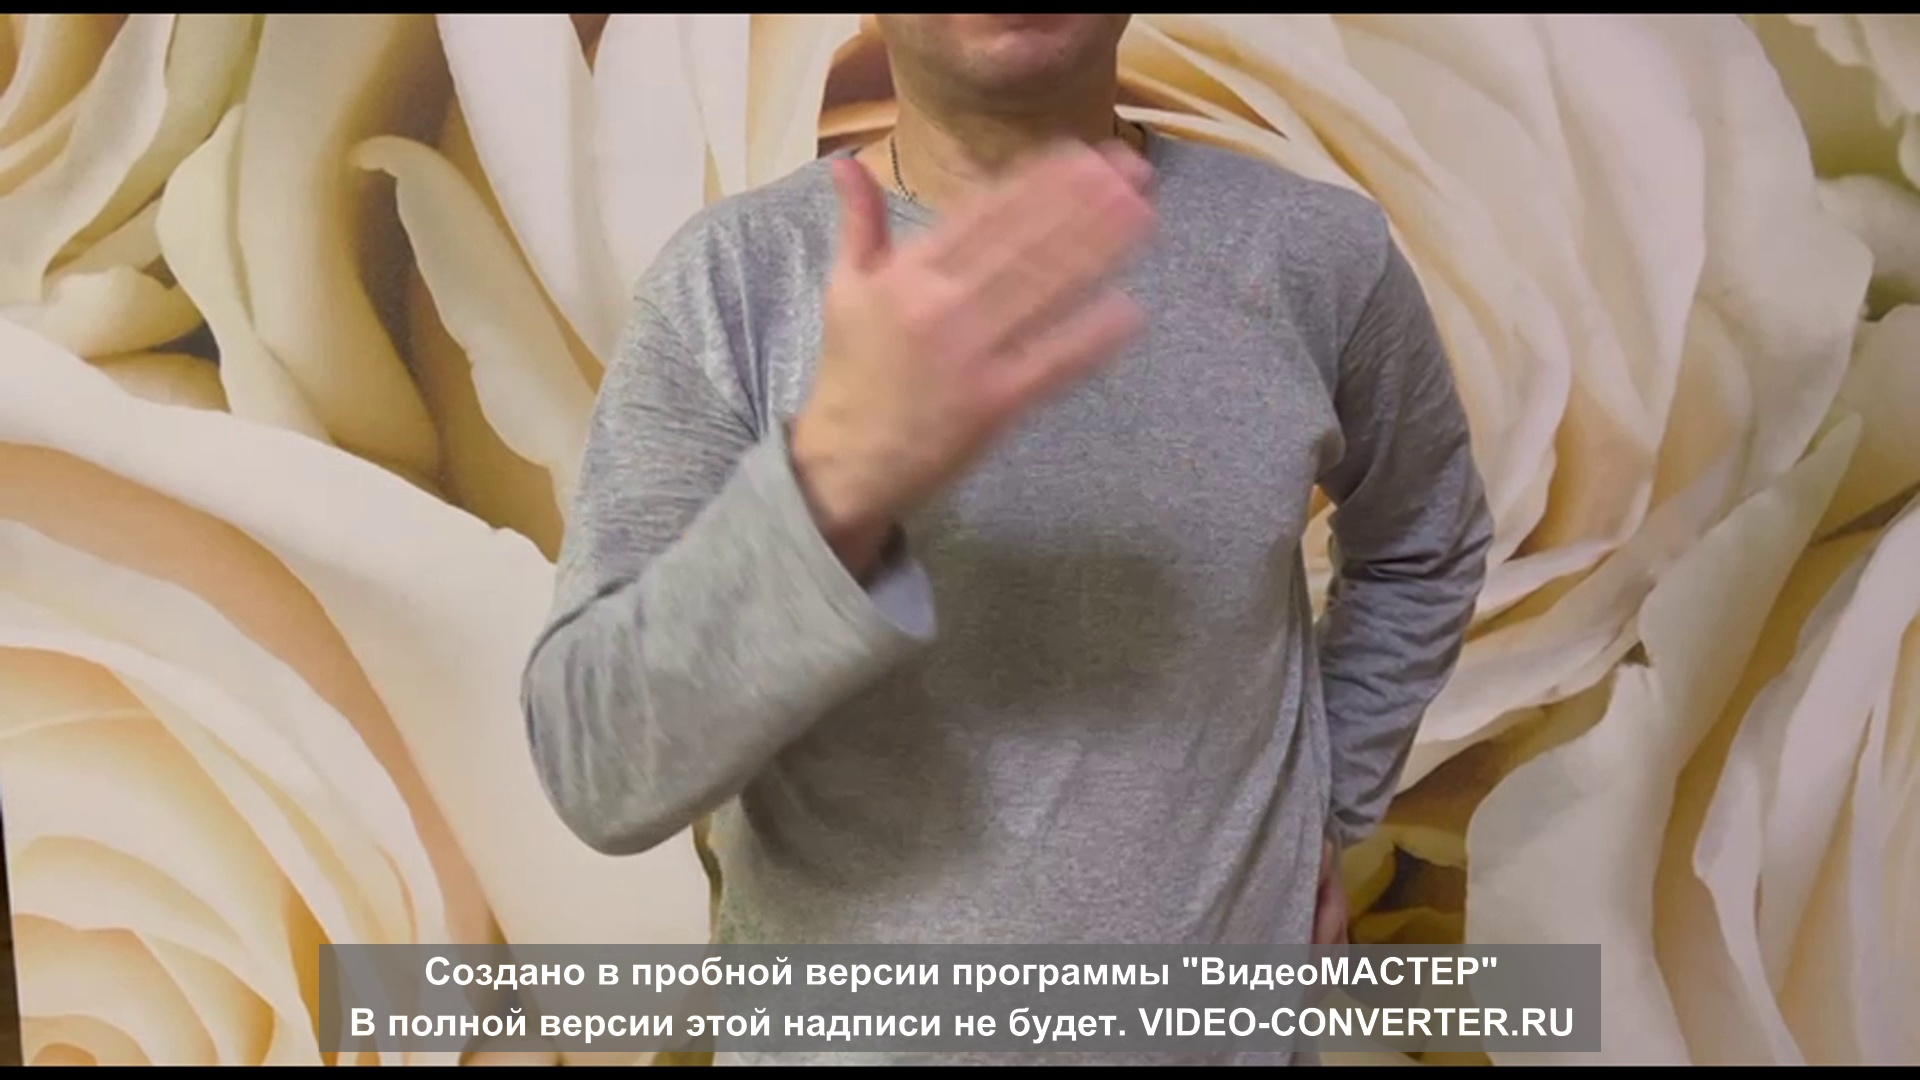Кисть: (798, 141, 1150, 508)
